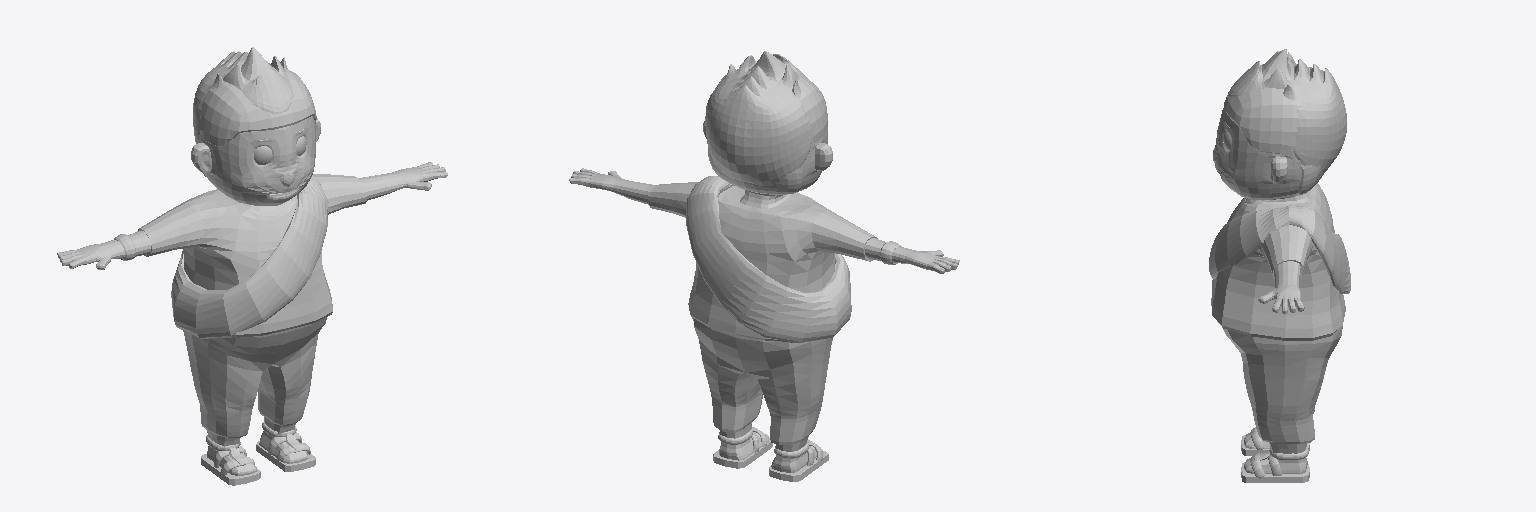
The model's file is anwar.obj.
3 renders of one model, left to right at view 1: azimuth 30°, elevation 25°; view 2: azimuth 150°, elevation 25°; view 3: azimuth 270°, elevation 25°, orthographic.
Parts seen in each view (by area): view 1: Anwar; view 2: Anwar; view 3: Anwar.
Part boxes in pixels (x1,y1,x2,y2): Anwar: (57, 47, 447, 485); Anwar: (569, 51, 959, 481); Anwar: (1209, 49, 1350, 482).
Size of the model in its own units: 9.6 by 9.88 by 3.09.